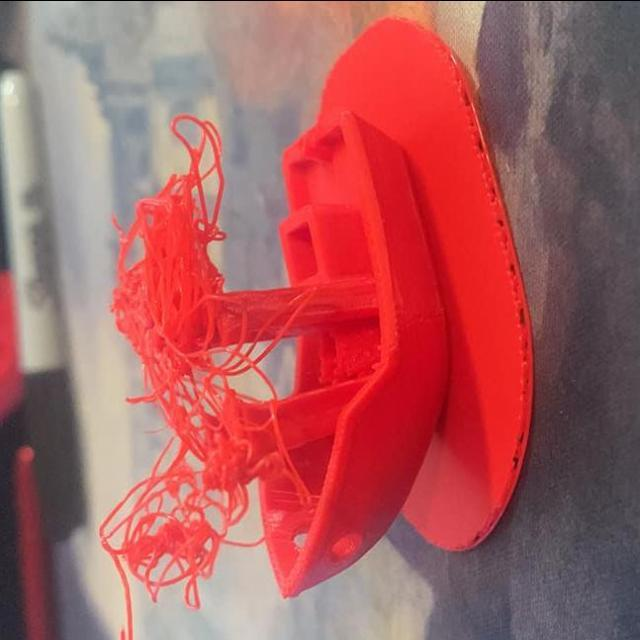Spaghetti: (150, 324, 271, 486), (109, 457, 229, 602), (164, 116, 228, 232)
